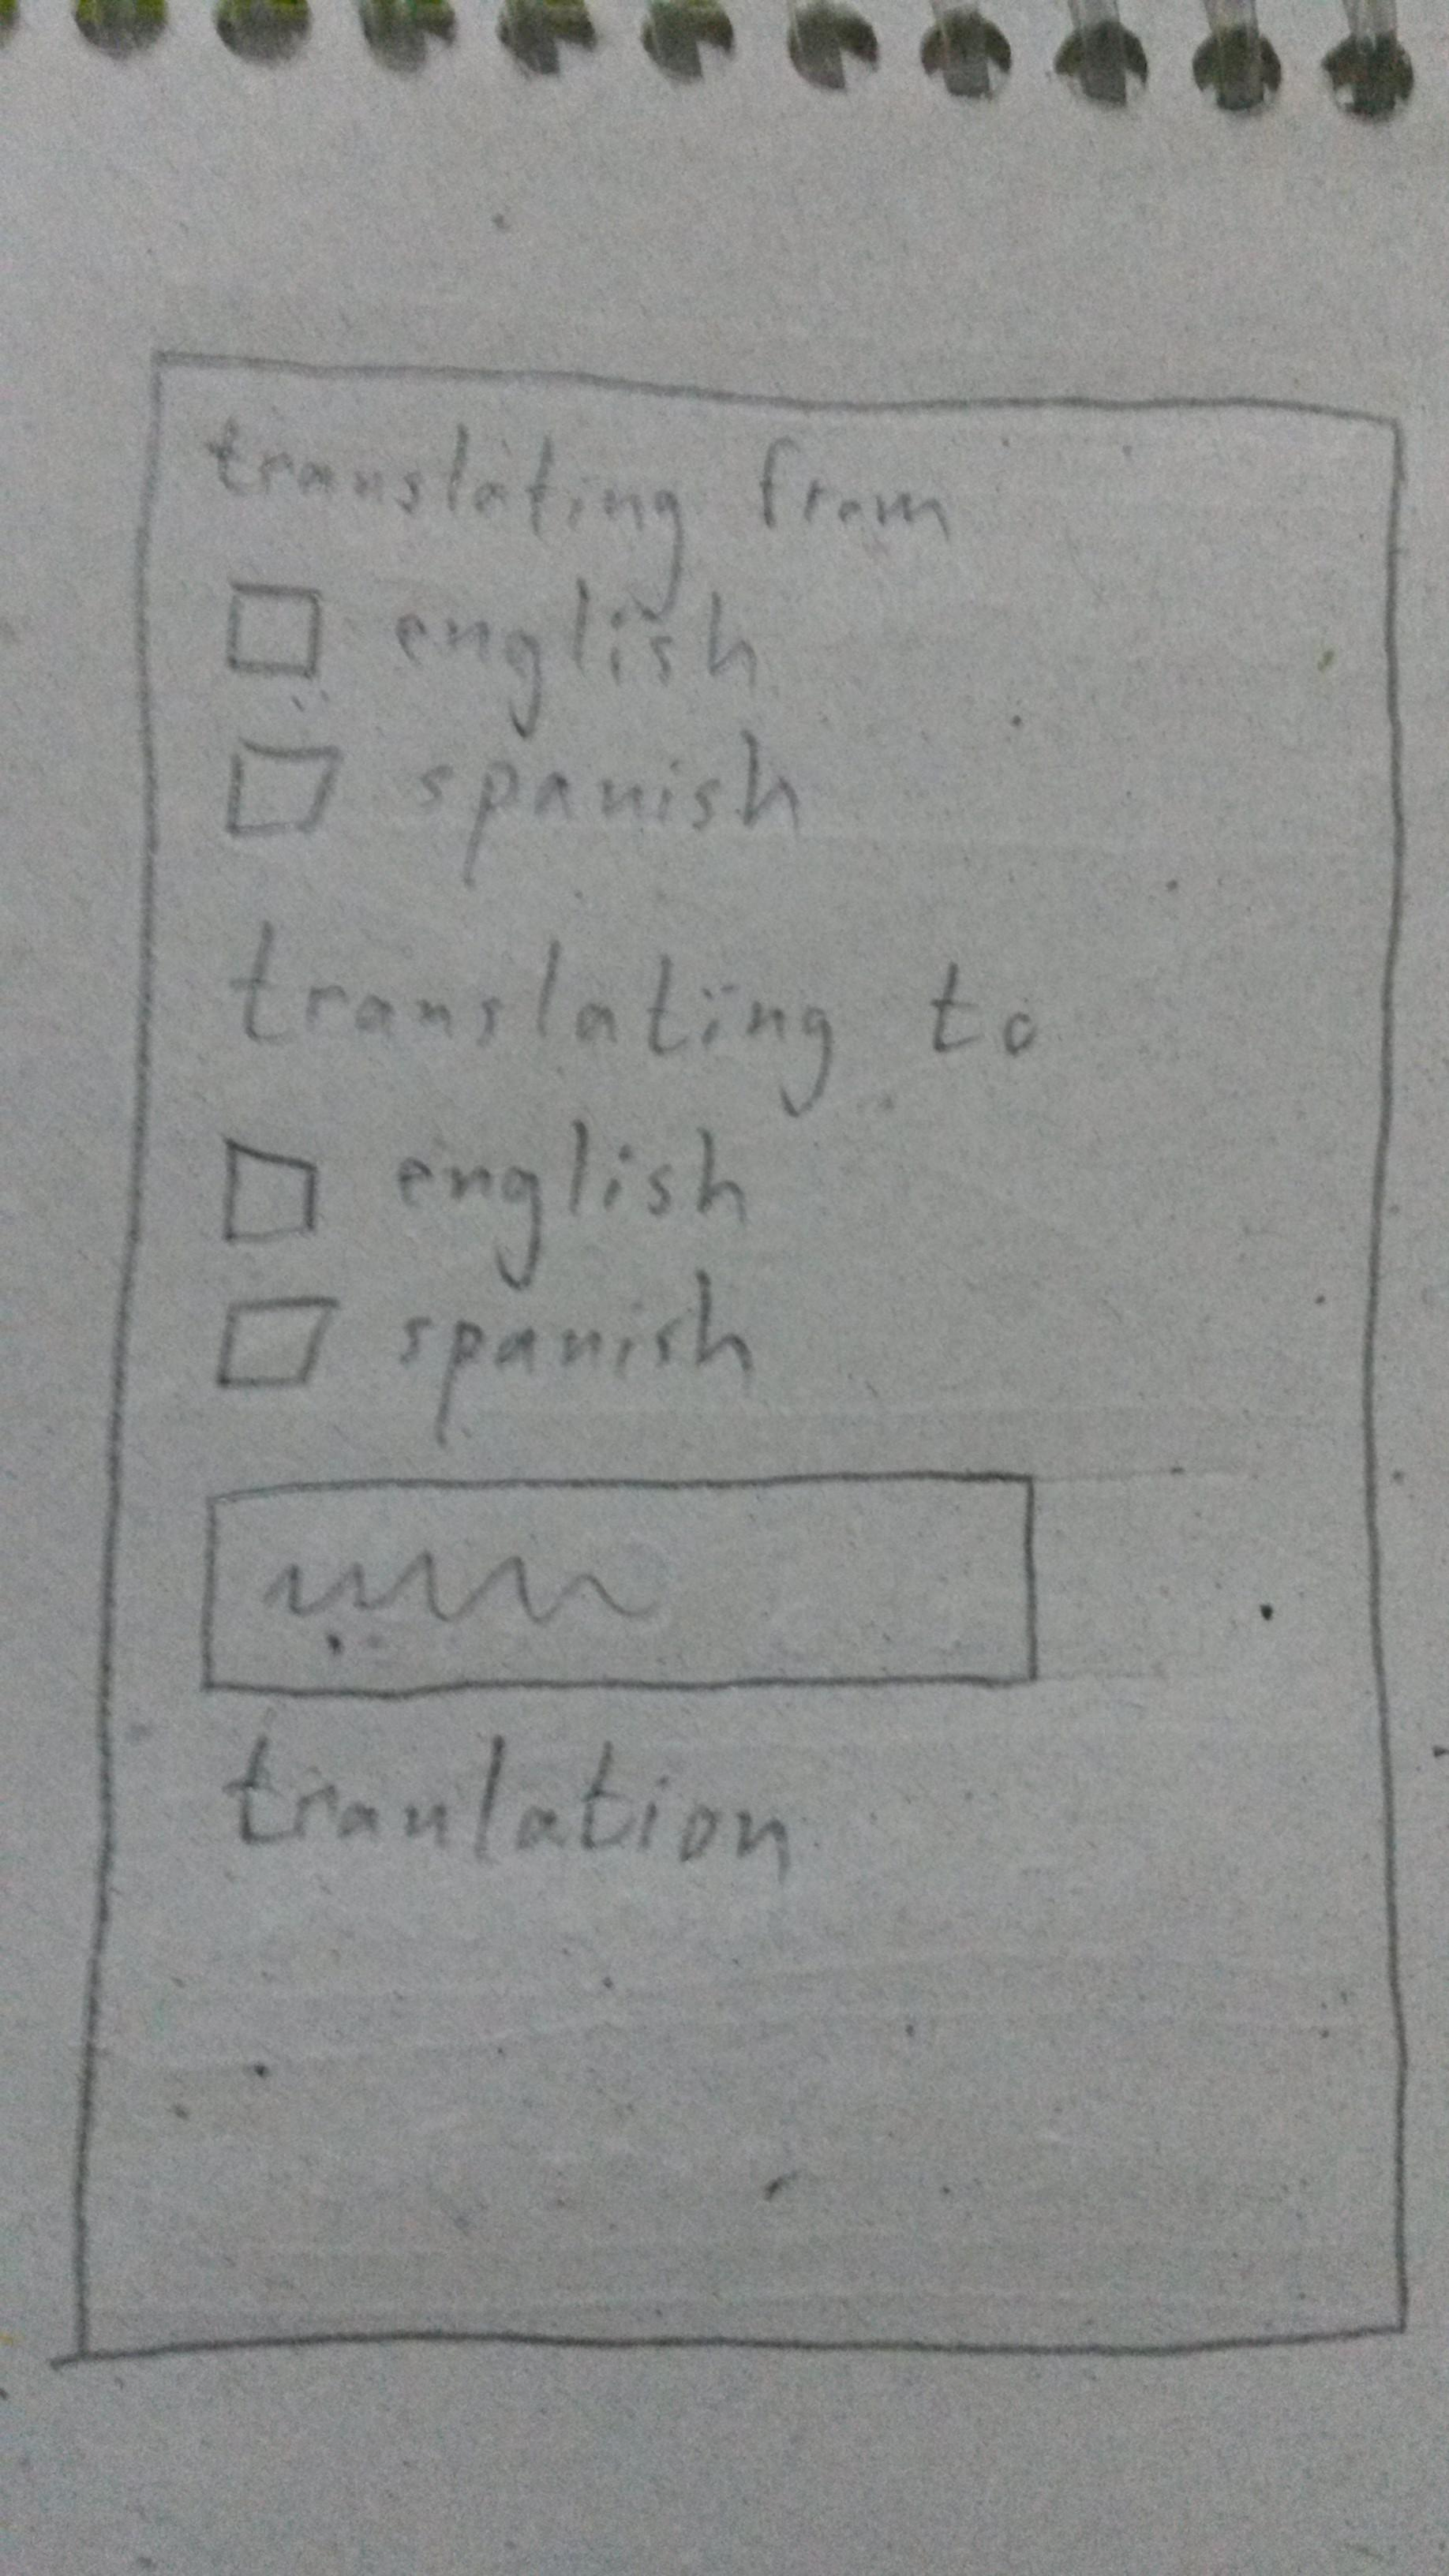CheckBox: (223, 566, 764, 741), (219, 1270, 754, 1442), (221, 738, 807, 890), (219, 1118, 750, 1247)
Label: (237, 920, 1040, 1122), (200, 419, 959, 554), (221, 1729, 791, 1874)
Screen: (76, 352, 1414, 2364)
TextBox: (202, 1470, 1035, 1700)
